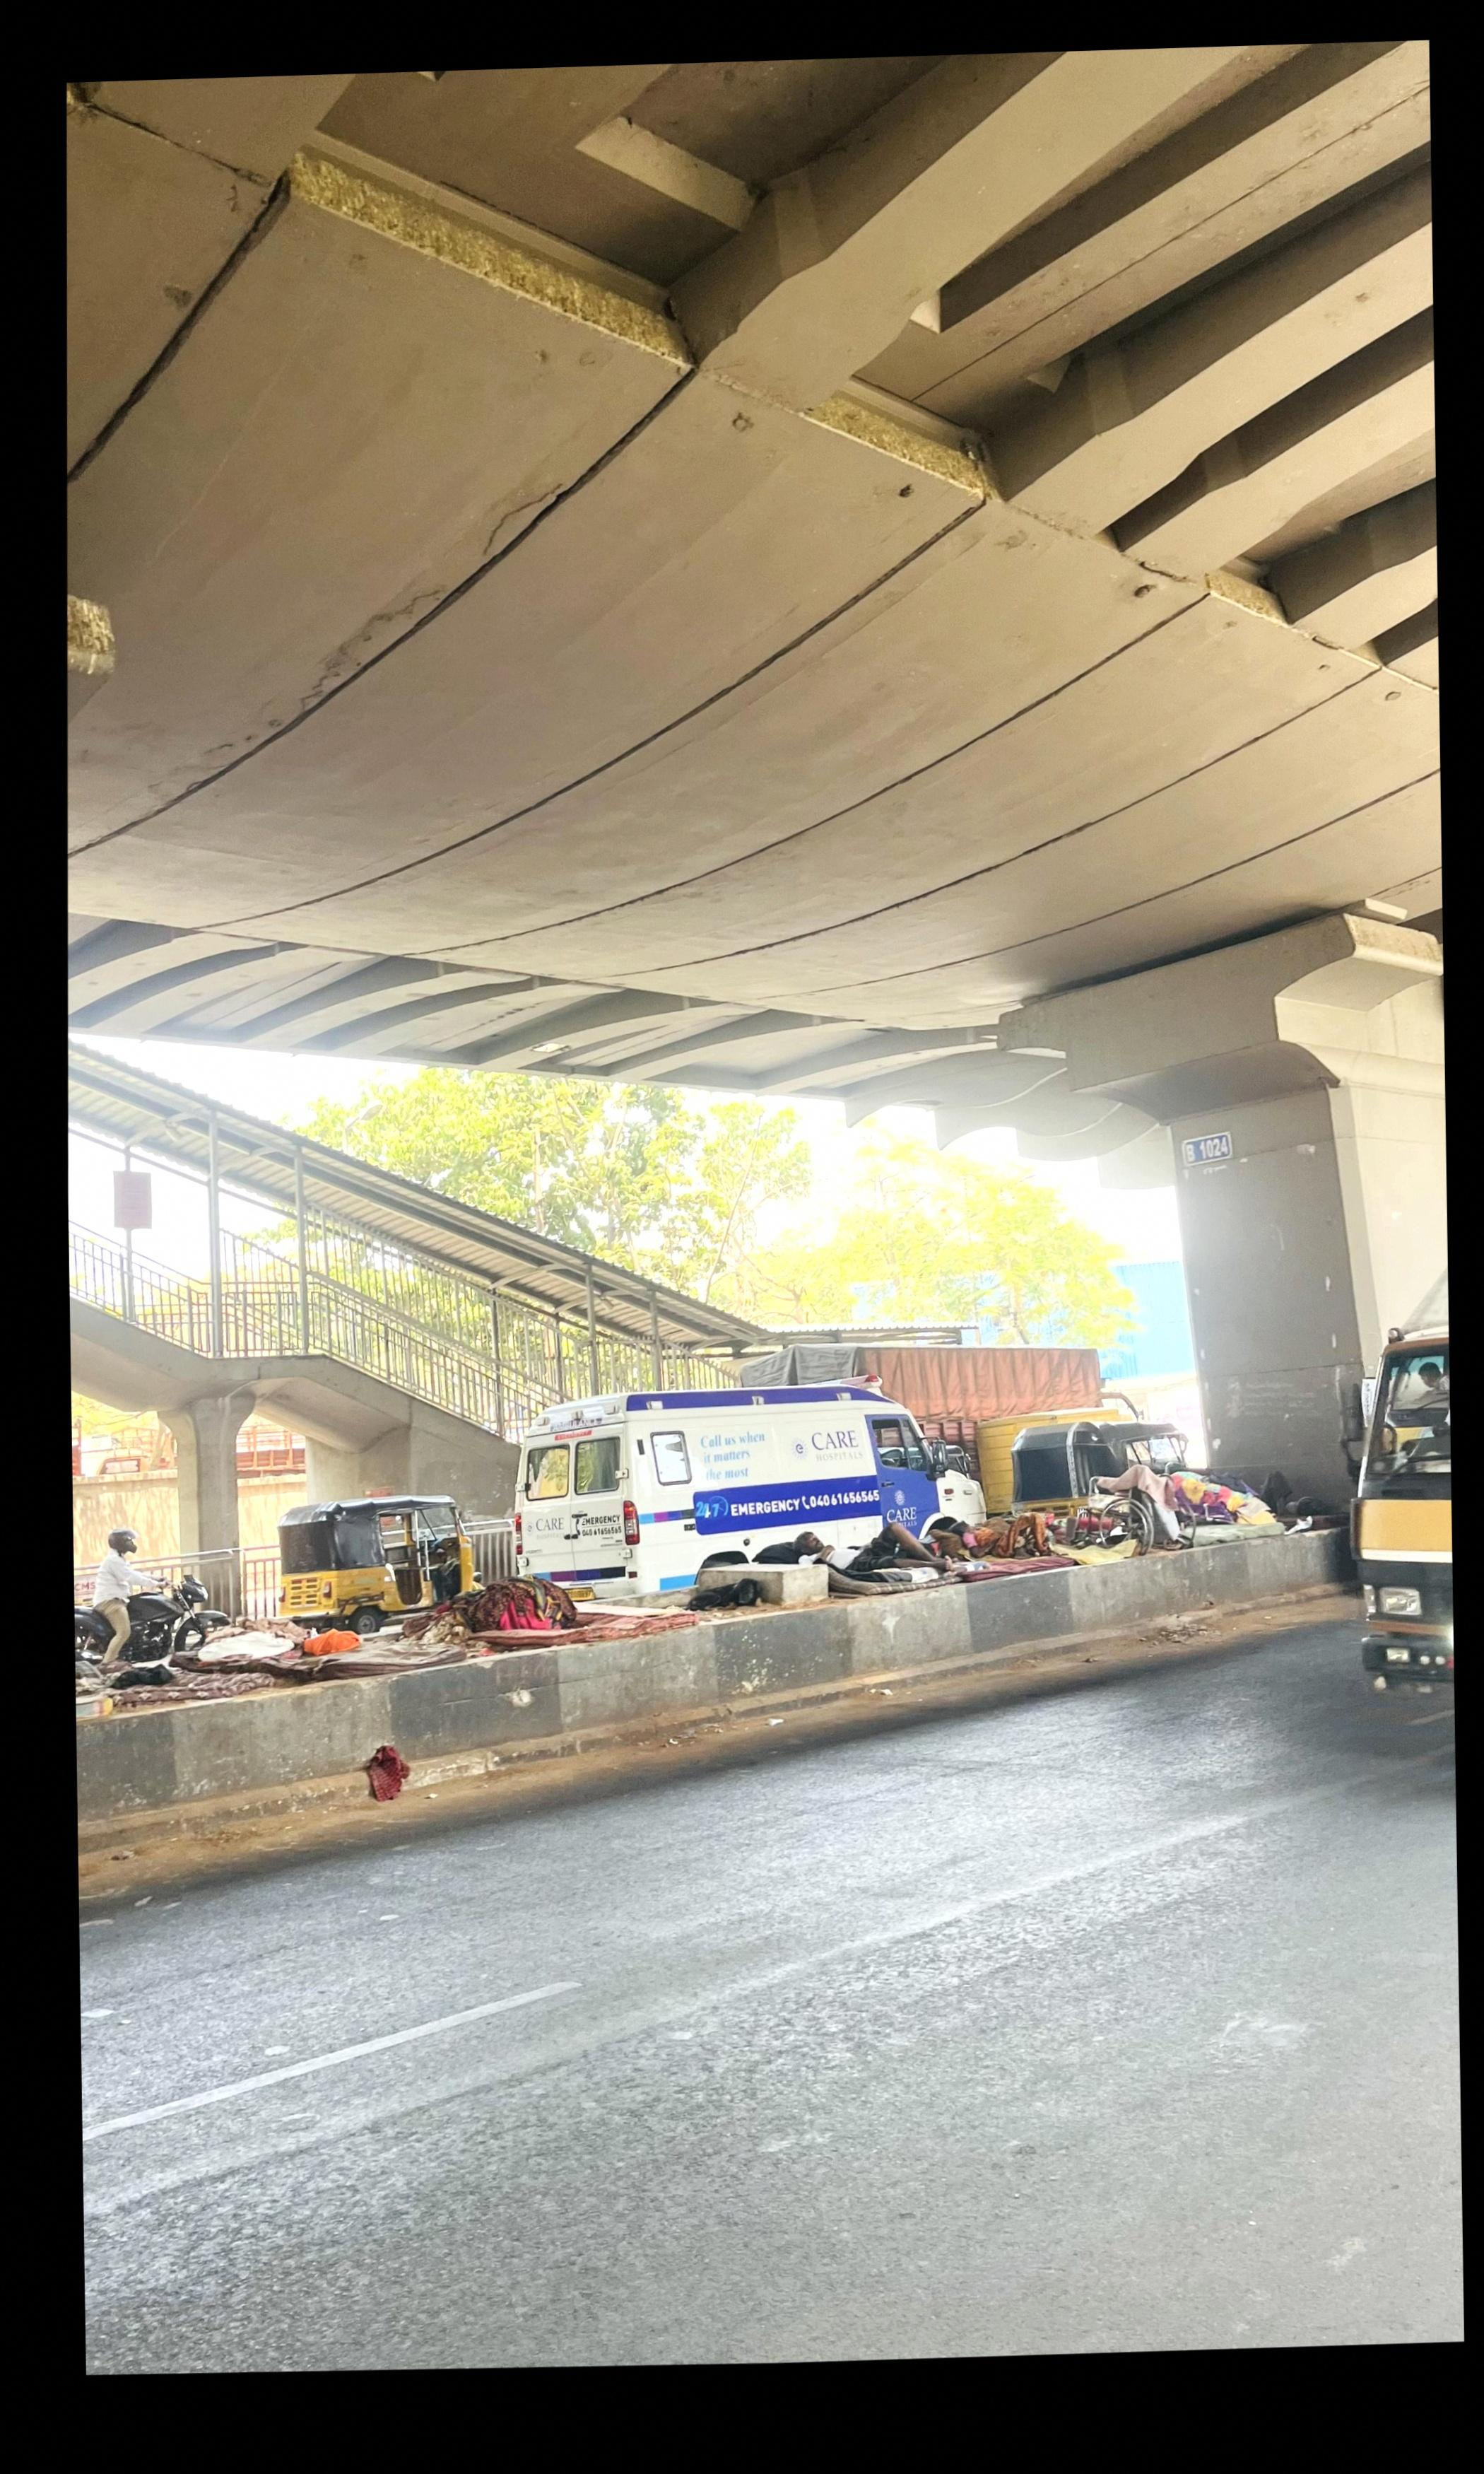ambulance: (519, 1393, 984, 1626)
